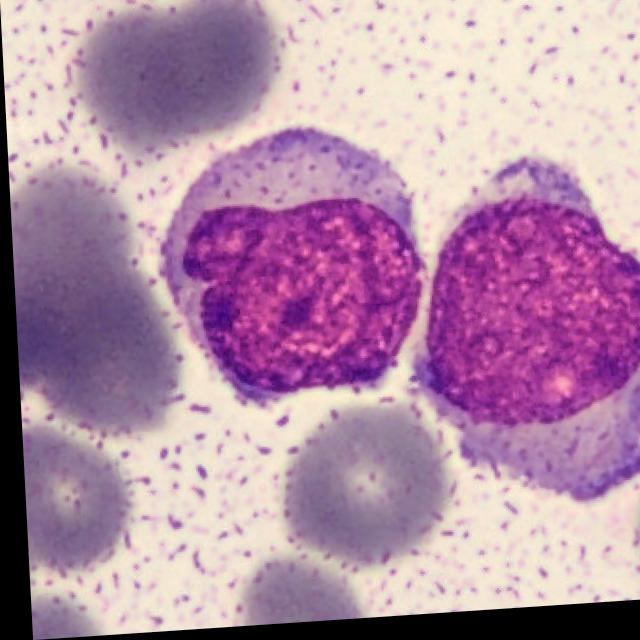Mieloblasto: (410, 168, 640, 508), (161, 133, 424, 407)
